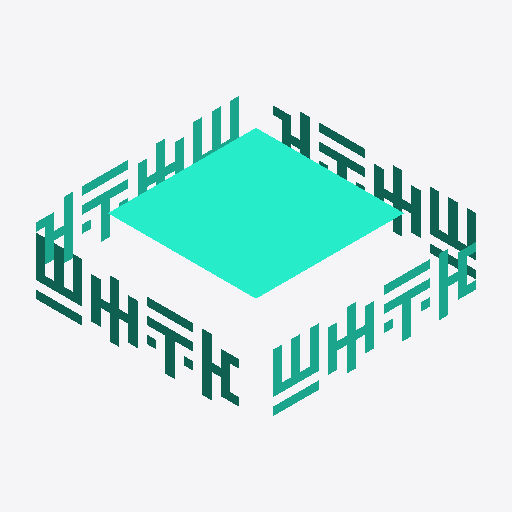
A Minecraft block model of 5 cuboids, rendered isometrically (azimuth 45°, elevation 35.3°) with the resource pack's own textures.
Visible parts, largest first — element 5, element 1, element 3, element 2, element 4.
Boxes of the visible parts, x1,y1,x2,y2 form: element 5: [108, 128, 403, 297]; element 1: [36, 233, 238, 405]; element 3: [273, 242, 475, 415]; element 2: [273, 106, 475, 278]; element 4: [36, 96, 238, 263].
Bounding box in the file's own units: 6.4 × 2 × 6.4.